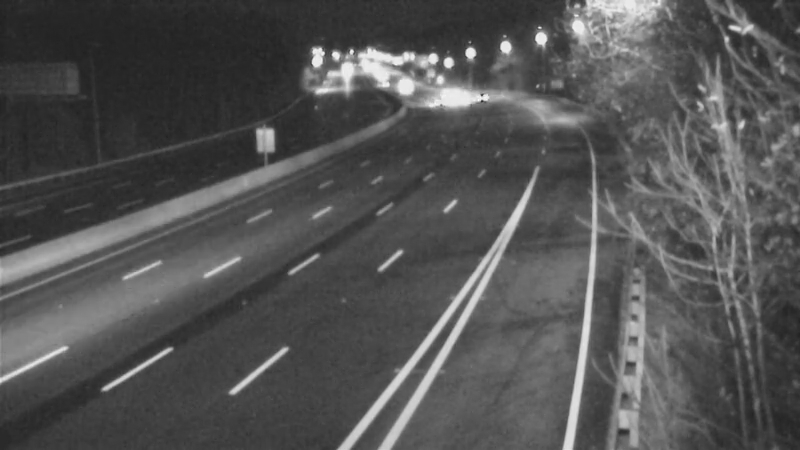vehicle: (379, 65, 429, 115), (426, 75, 476, 125), (457, 74, 507, 124), (412, 75, 462, 125)
